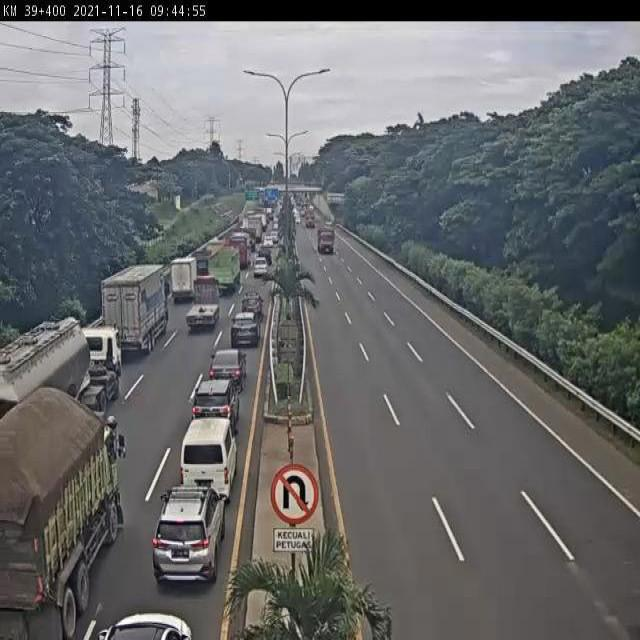car: (152, 488, 224, 584), (188, 382, 236, 446), (205, 355, 242, 397), (227, 313, 259, 352), (235, 299, 262, 331), (250, 258, 271, 286)
truck: (0, 399, 118, 639), (0, 320, 118, 459), (98, 264, 165, 361), (180, 419, 235, 500), (184, 278, 219, 334), (205, 248, 241, 300), (166, 256, 197, 304)
